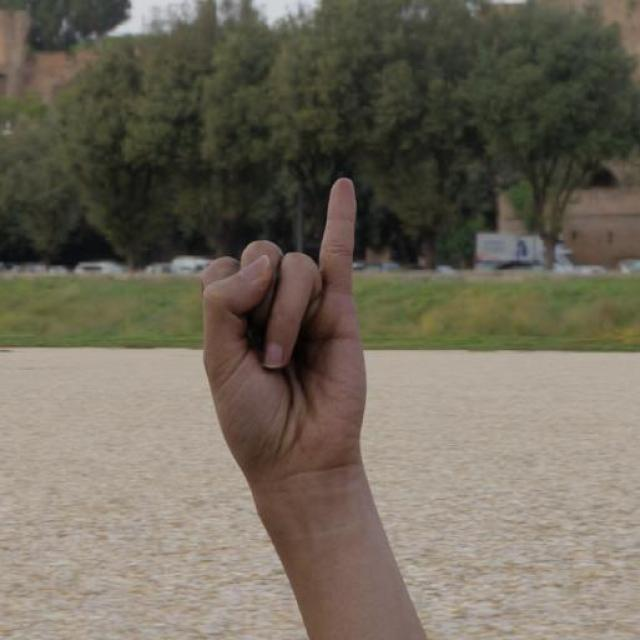I: (194, 174, 376, 541)
